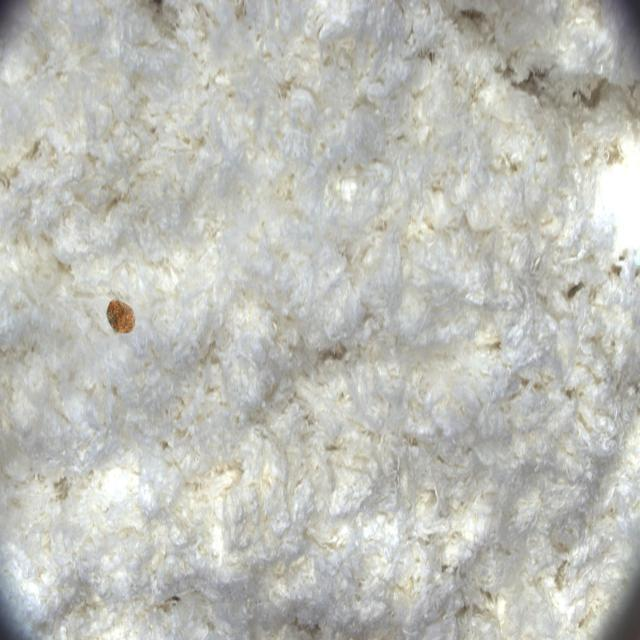dust: (94, 284, 153, 351)
